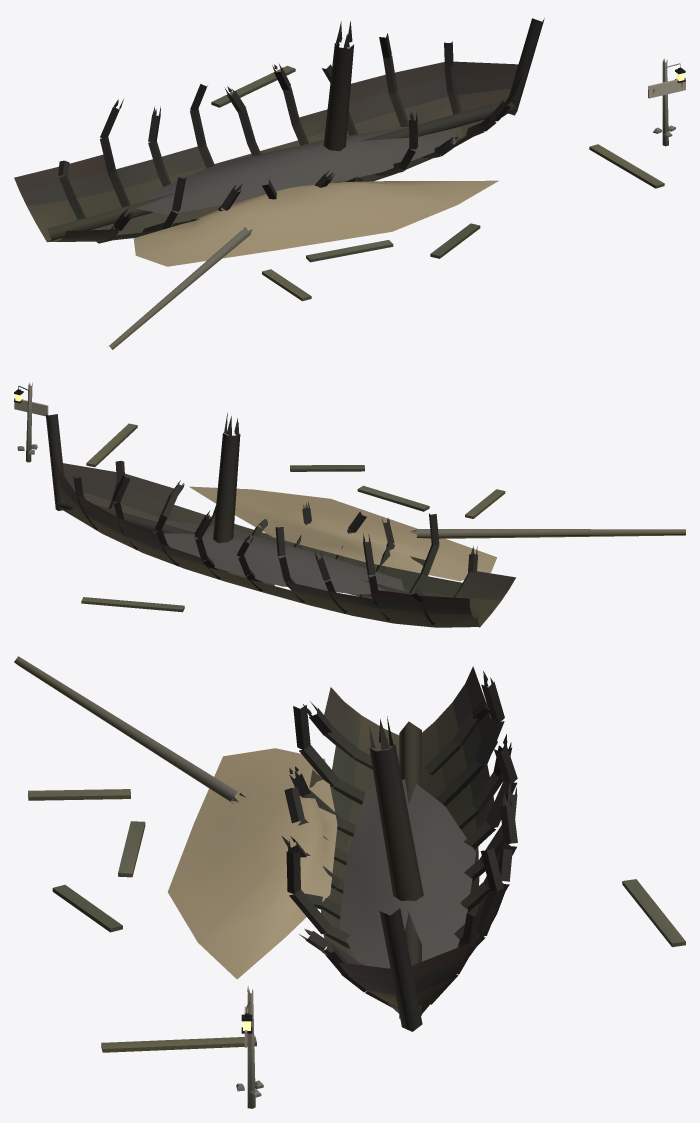
File: wreck_burned.glb
3 renders of one model, top to bottom at view 1: azimuth 30°, elevation 25°; view 2: azimuth 150°, elevation 25°; view 3: azimuth 270°, elevation 25°, orthographic. The views are drawn at different scales.
Parts seen in each view (by area): view 1: hull, epitaph; view 2: hull, epitaph; view 3: hull, epitaph.
Part boxes in pixels (left/top/right/bottom): hull: left=14, top=18, right=664, bottom=349; epitaph: left=648, top=59, right=685, bottom=146; hull: left=45, top=412, right=685, bottom=627; epitaph: left=14, top=382, right=48, bottom=462; hull: left=14, top=656, right=685, bottom=1052; epitaph: left=236, top=985, right=263, bottom=1108.
Size of the model in its own units: 19.78 by 5.13 by 12.81.
